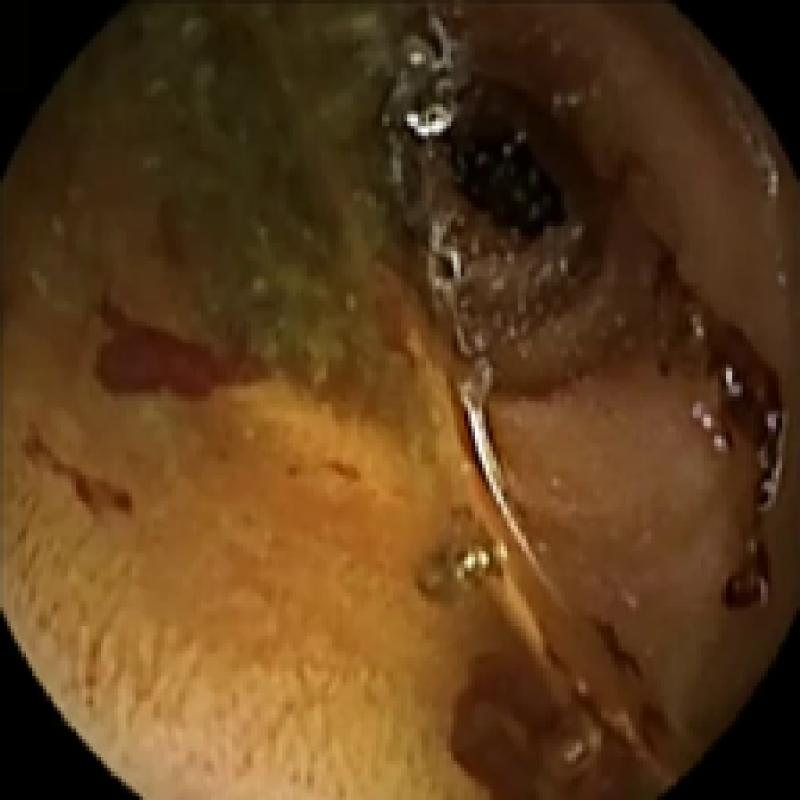bleeding: (647, 237, 786, 624), (452, 611, 638, 800), (461, 78, 621, 254), (86, 292, 273, 399), (19, 429, 138, 521)
